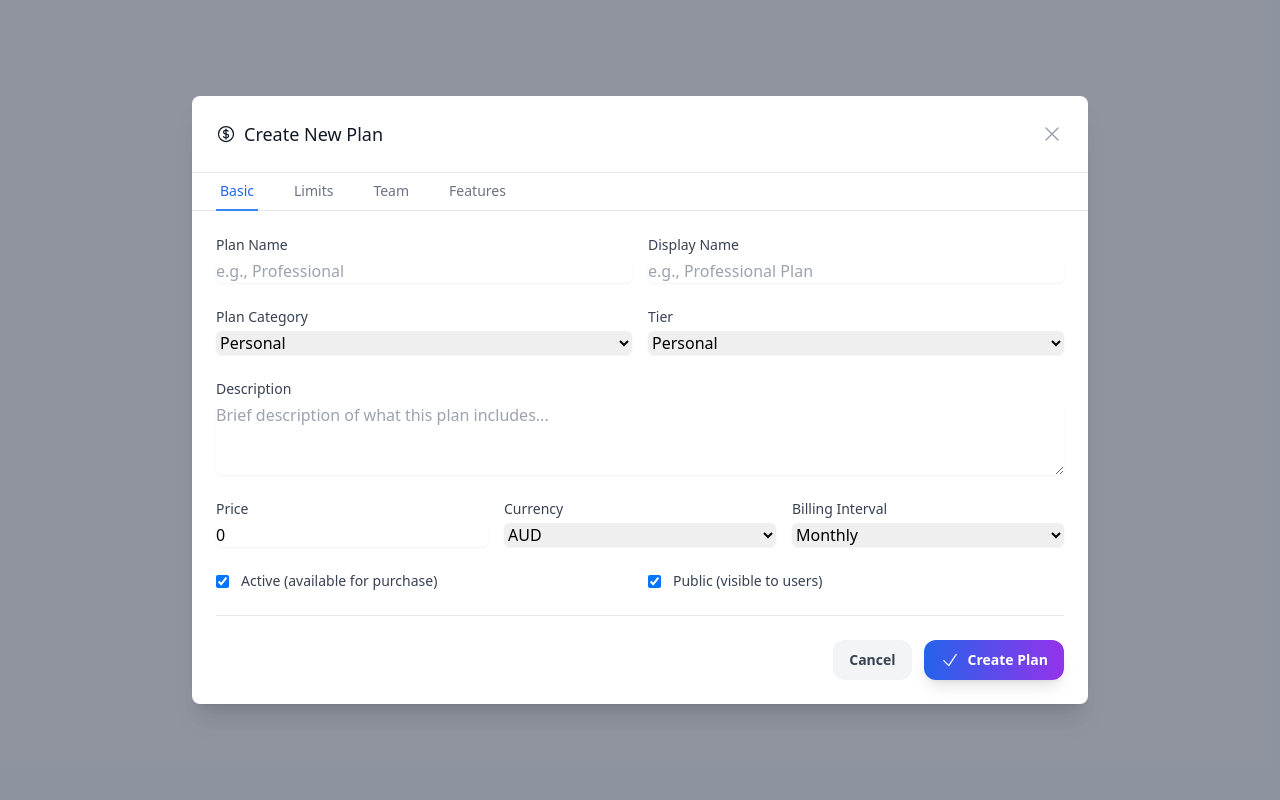
Scenario: PlanModalEnhanced Component › switches between tabs correctly
expect the field with placeholder "e.g., Professional" is shown: met, box [216,259,632,283]
# Switch to limits tab
Click the button "Limits": (314, 192) [290,173,337,211]
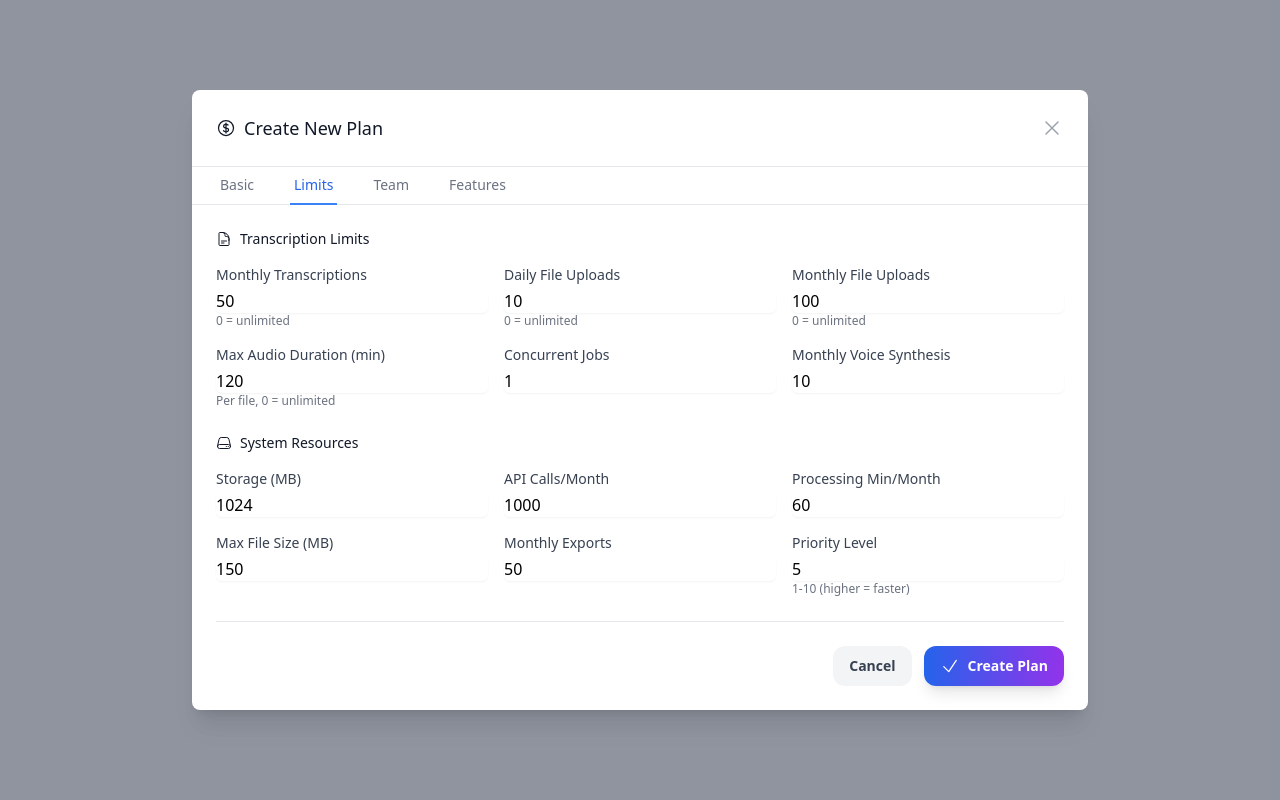
expect the heading "Transcription Limits" is shown: met, box [216,229,369,248]
# Switch to team tab
Click the button "Team": (391, 186) [369,167,413,205]
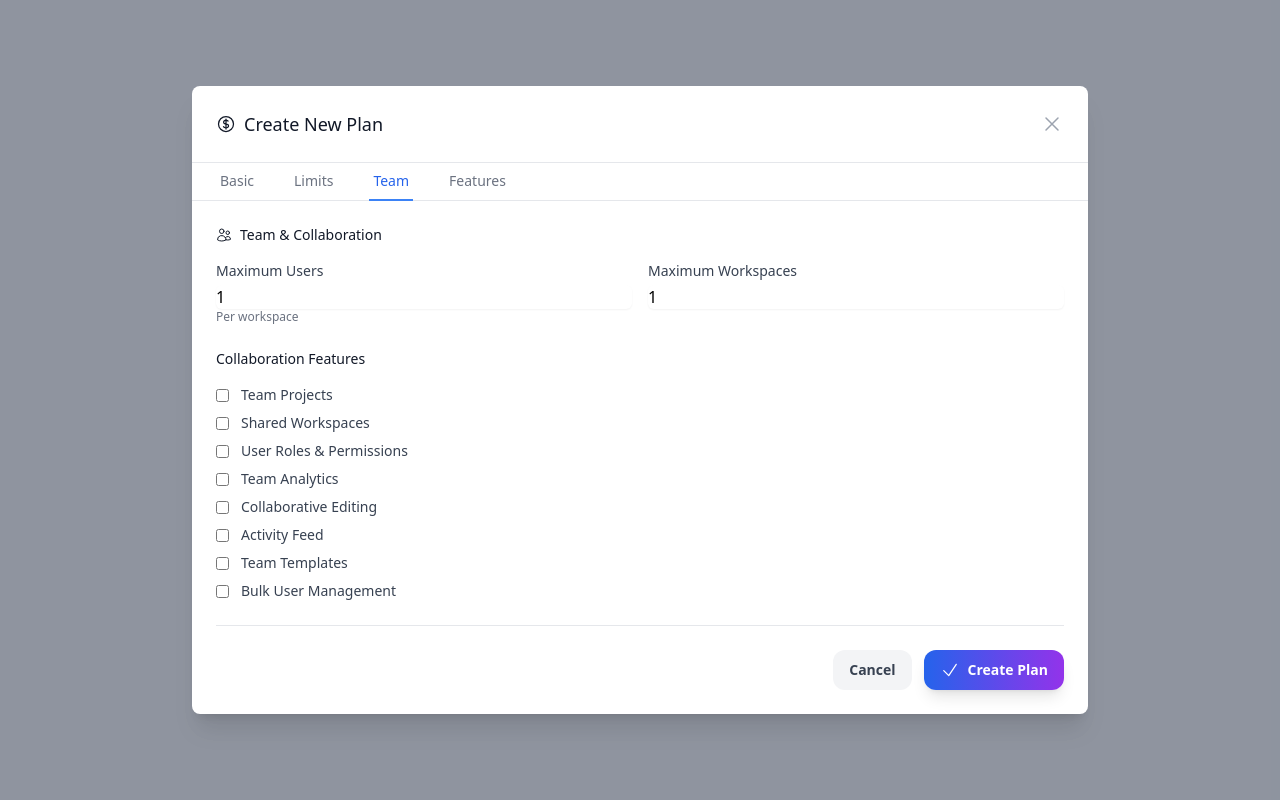
expect the heading "Team & Collaboration" is shown: met, box [216,225,382,244]
# Switch to features tab
Click the button "Features": (478, 182) [445,163,510,201]
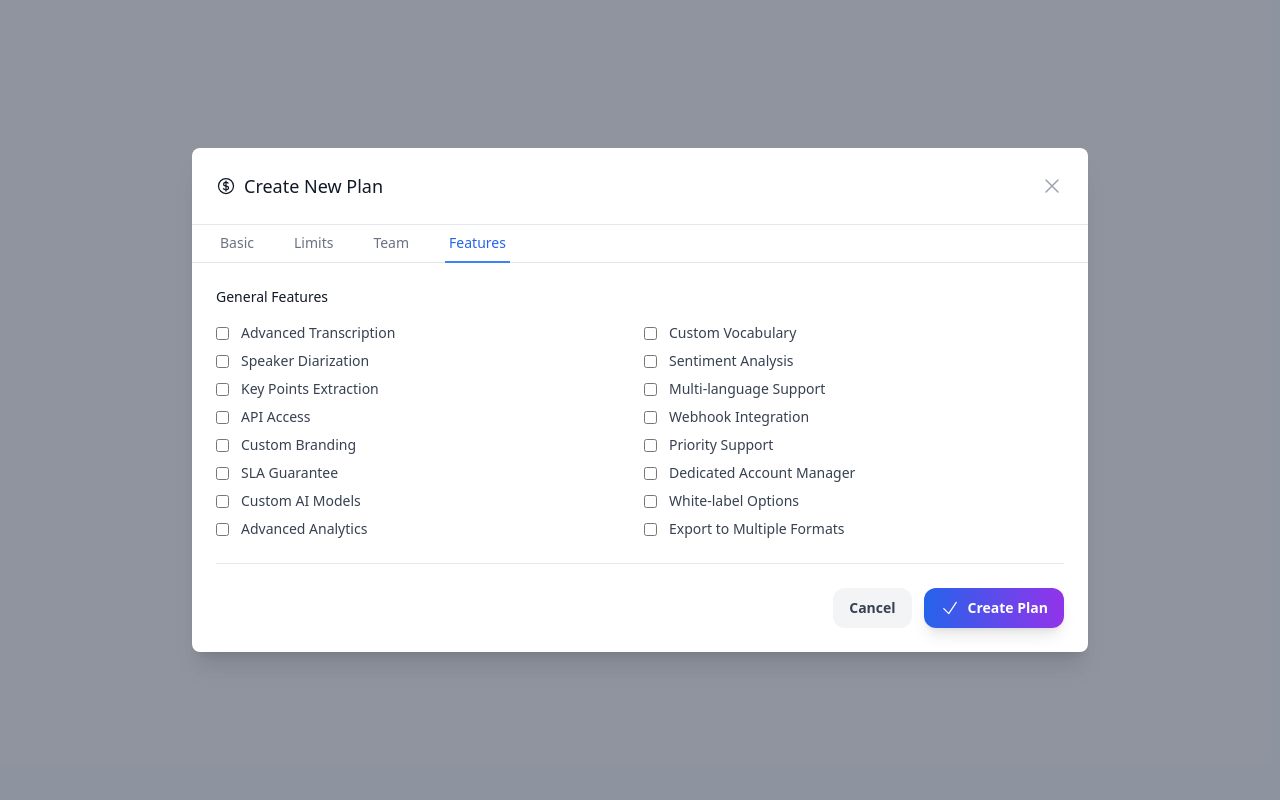
expect the heading "General Features" is shown: met, box [216,287,328,306]
